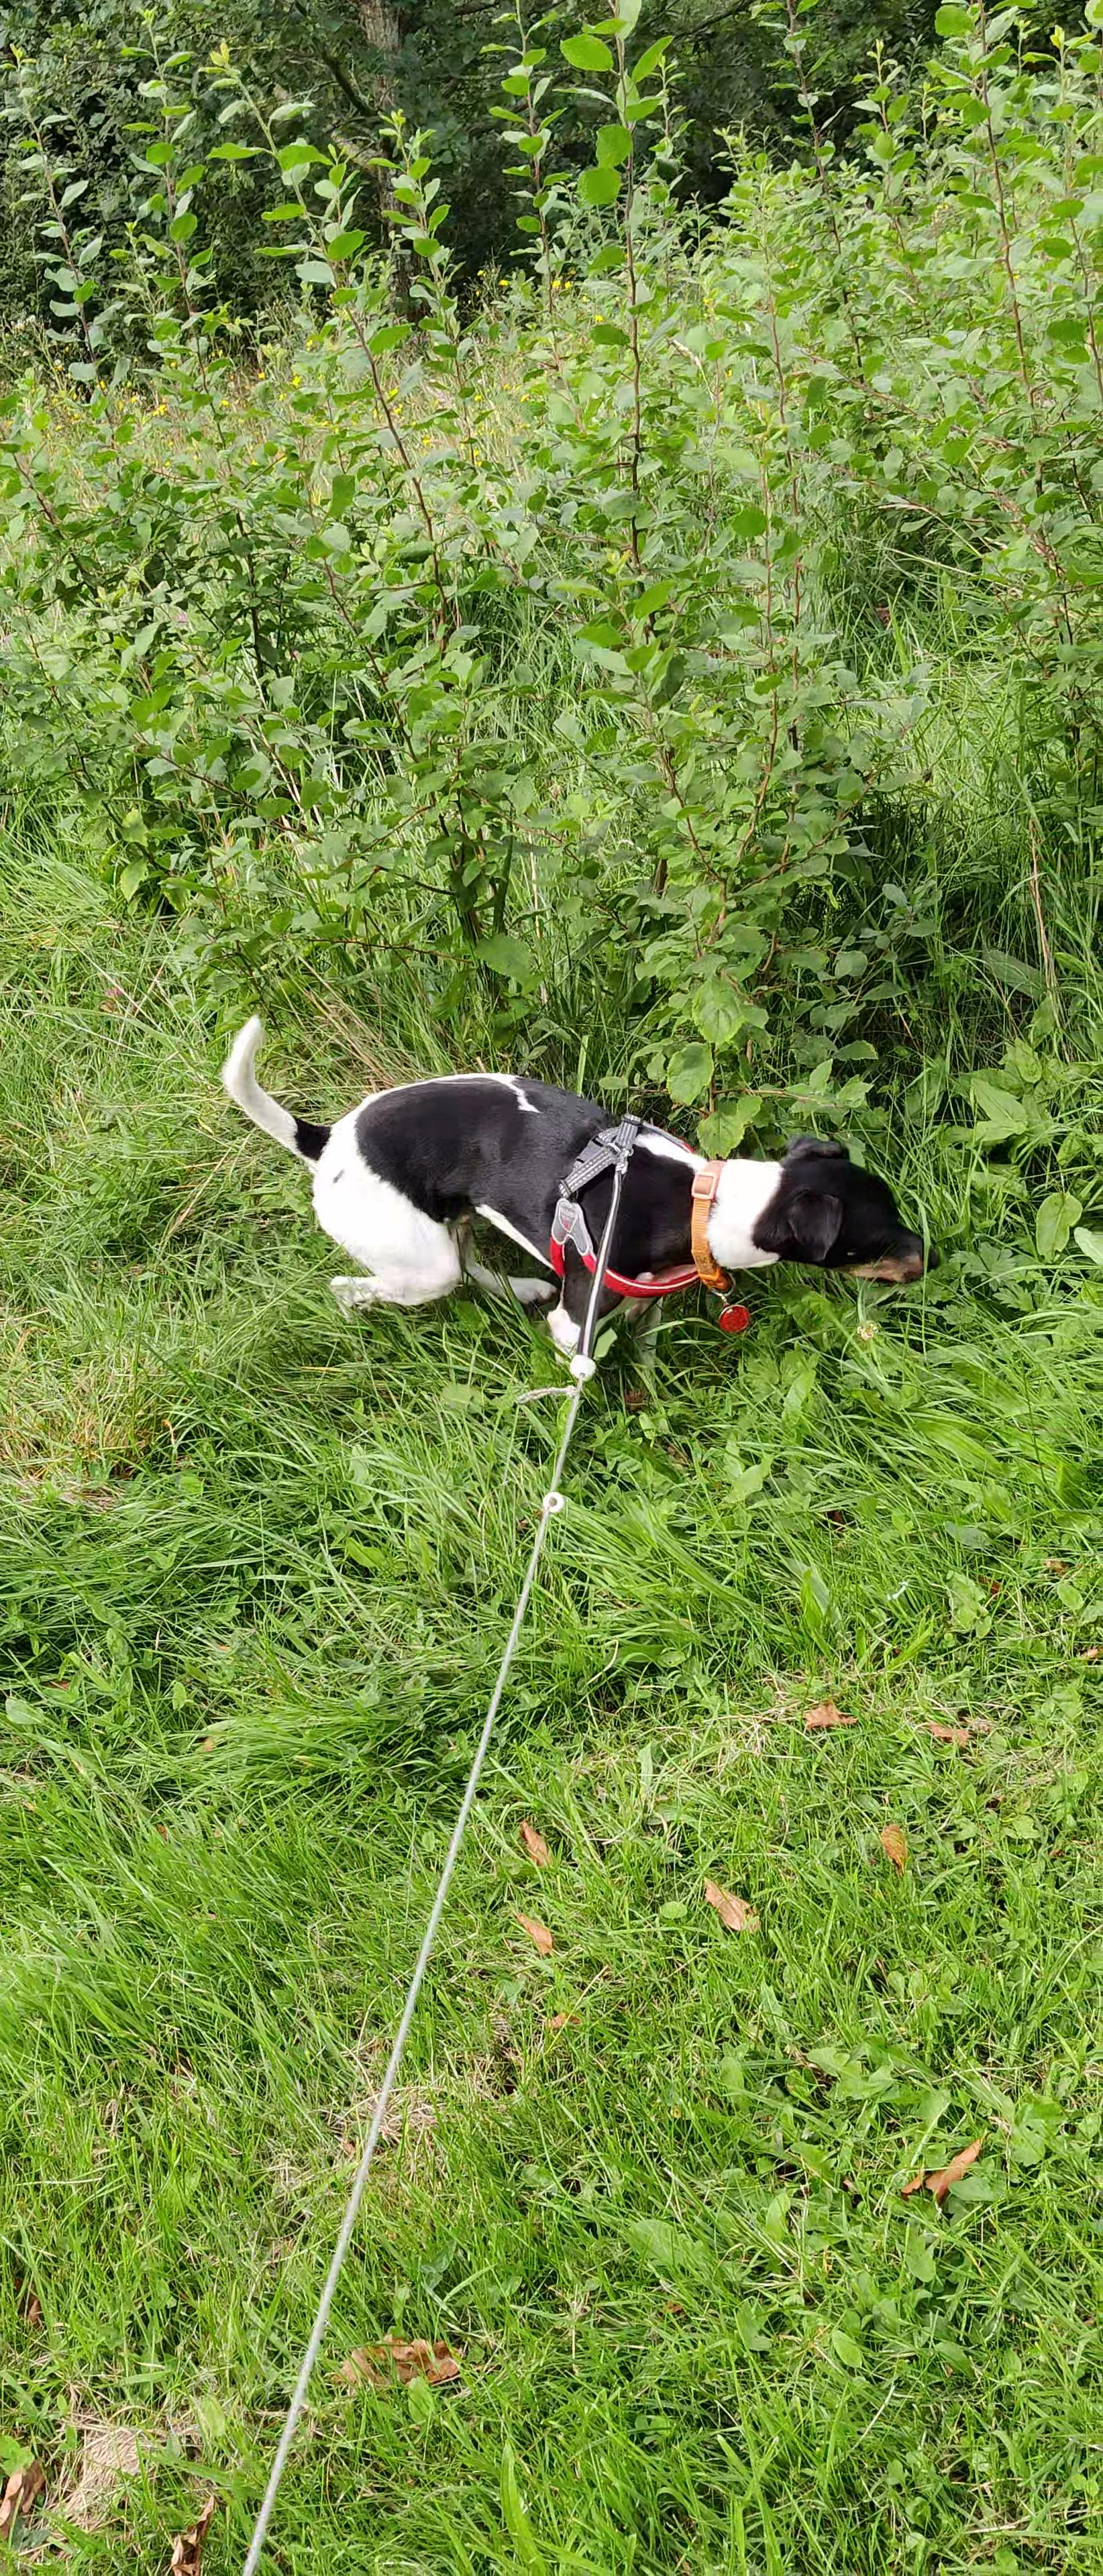Dog: (214, 1005, 942, 1373)
